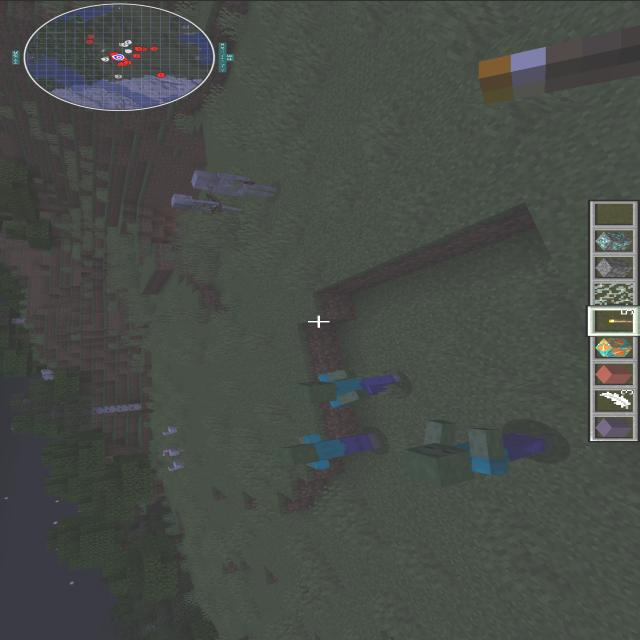Skeleton: (184, 156, 294, 204), (167, 190, 256, 217)
Zombie: (292, 362, 414, 410), (276, 426, 390, 475)
chicken: (164, 458, 192, 472), (160, 422, 183, 436), (164, 445, 186, 459), (162, 446, 188, 456)
